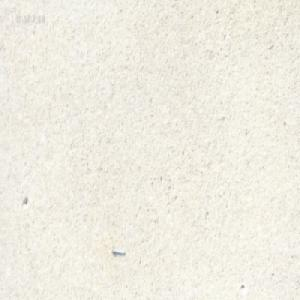Nail: (110, 246, 125, 255)
